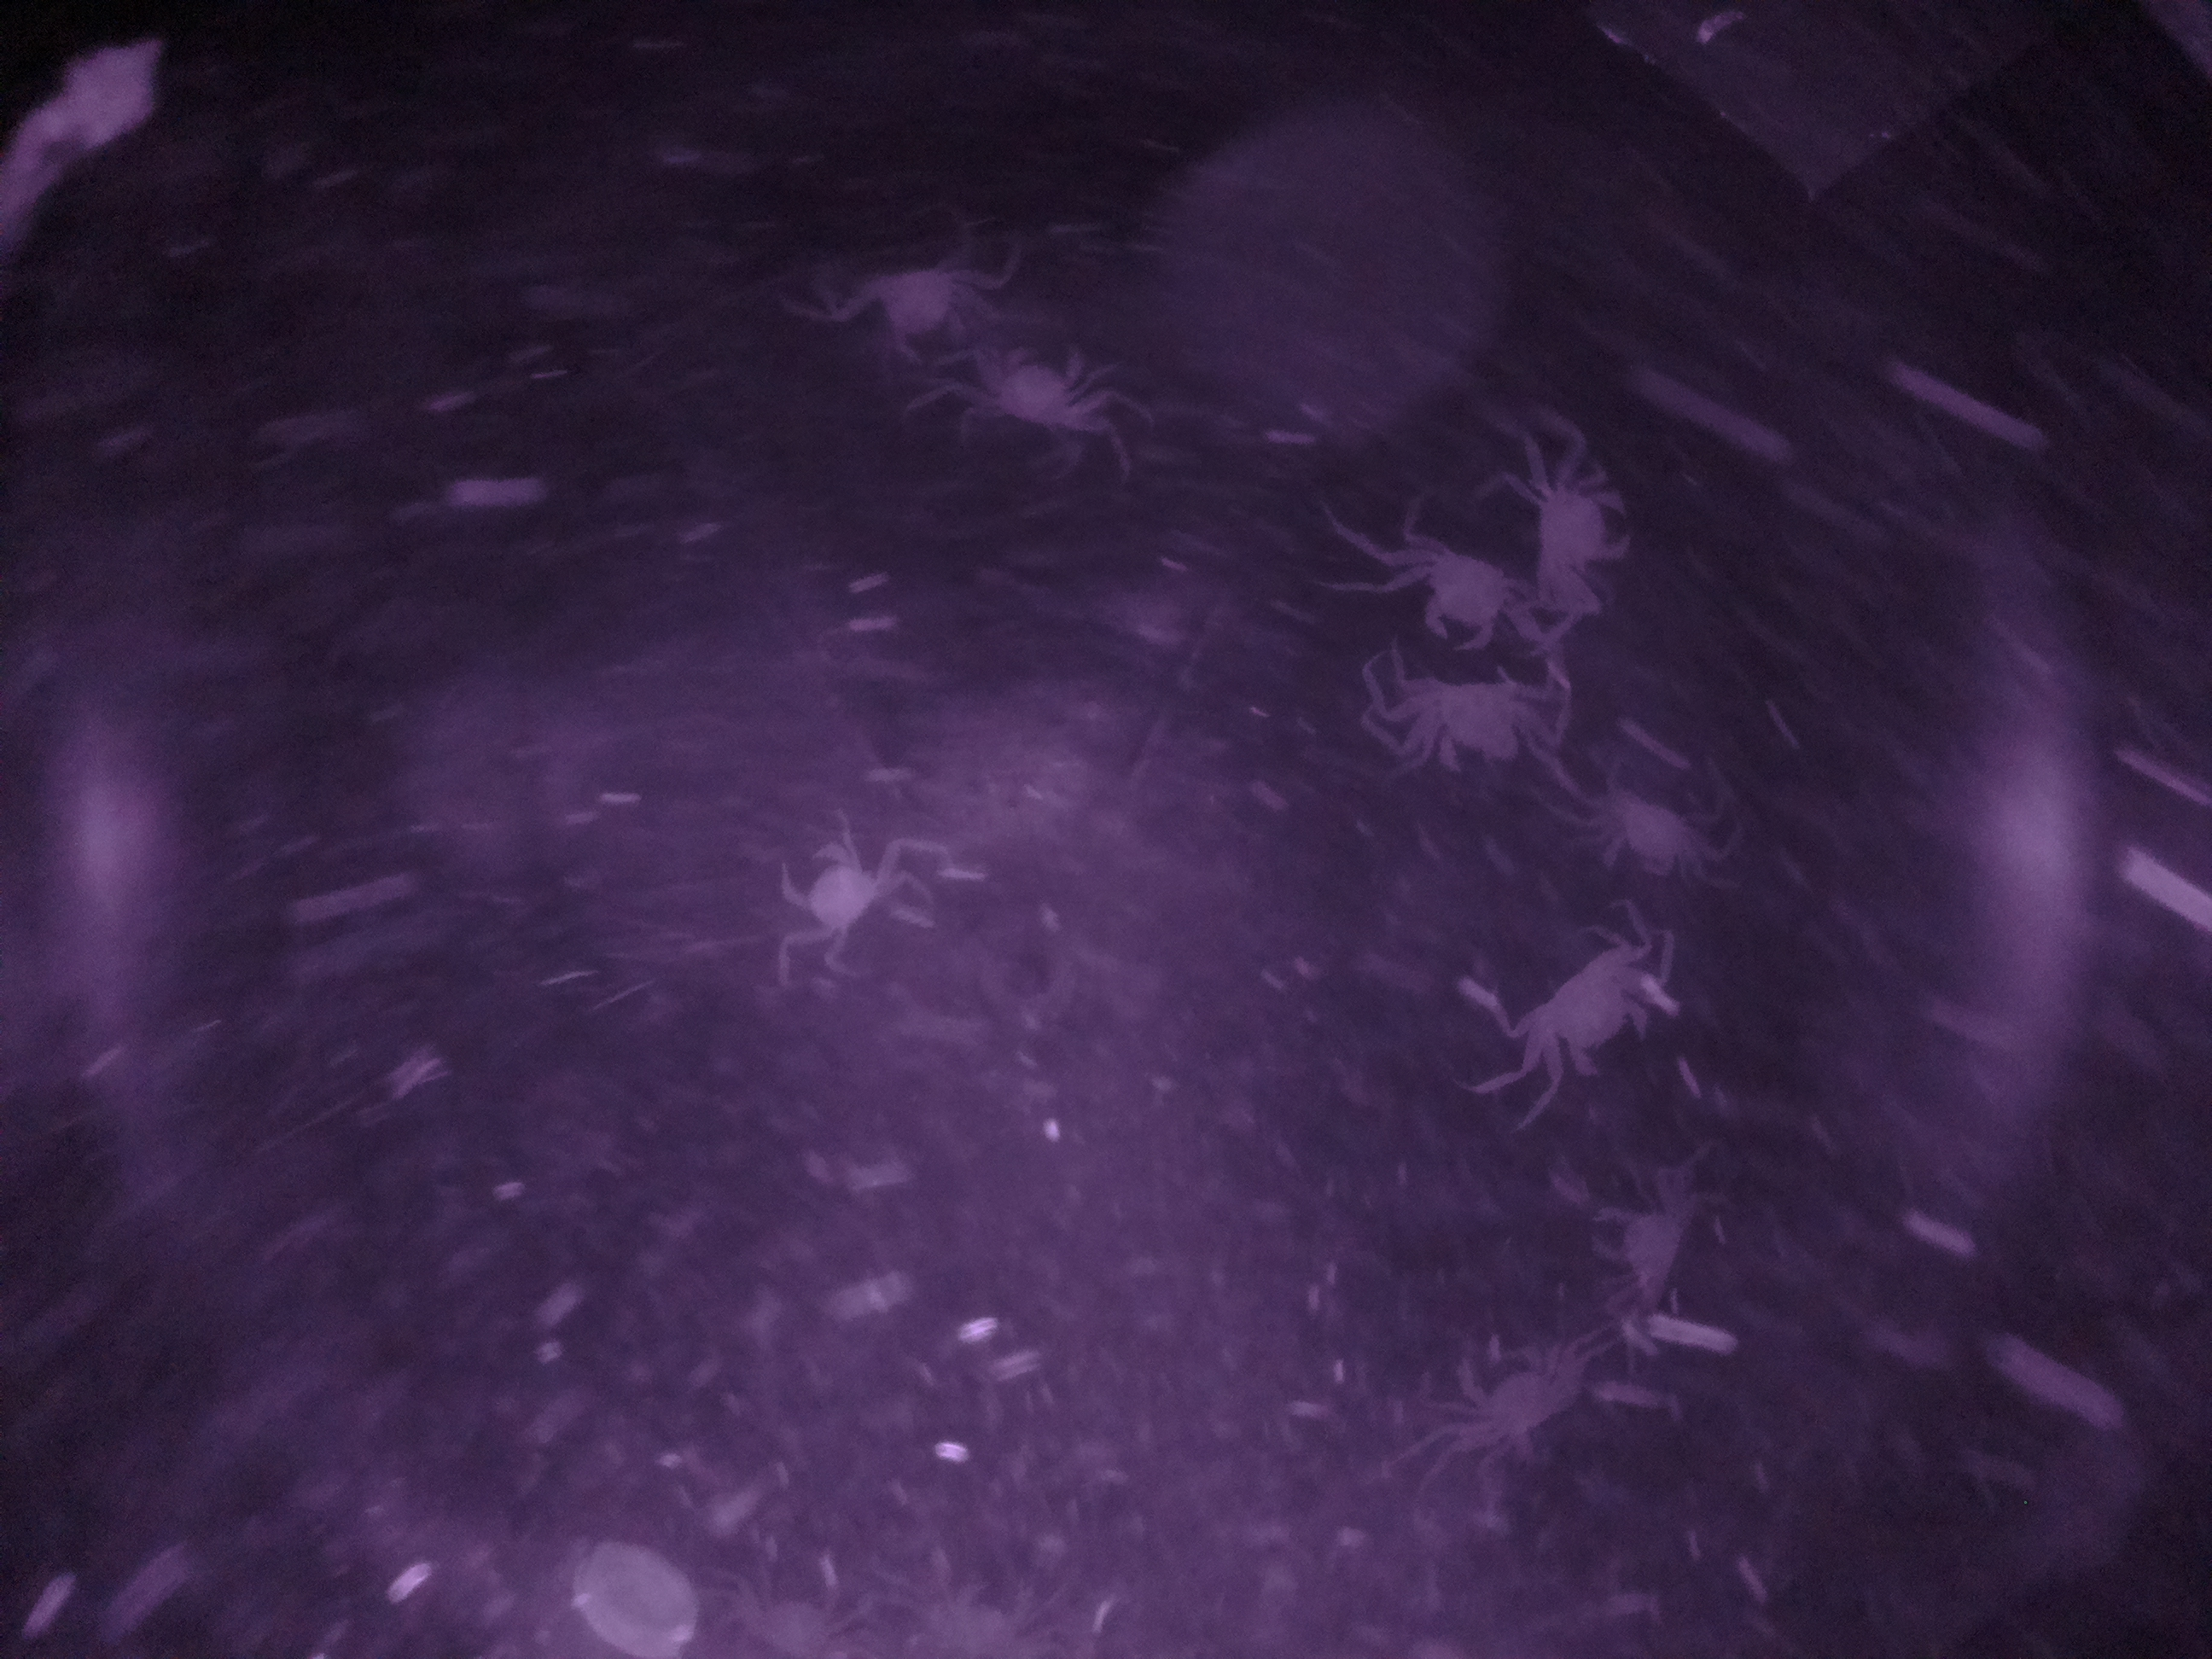Crab: (1505, 927, 1683, 1100), (1569, 763, 1742, 892), (1527, 457, 1655, 620), (1390, 516, 1541, 652)
